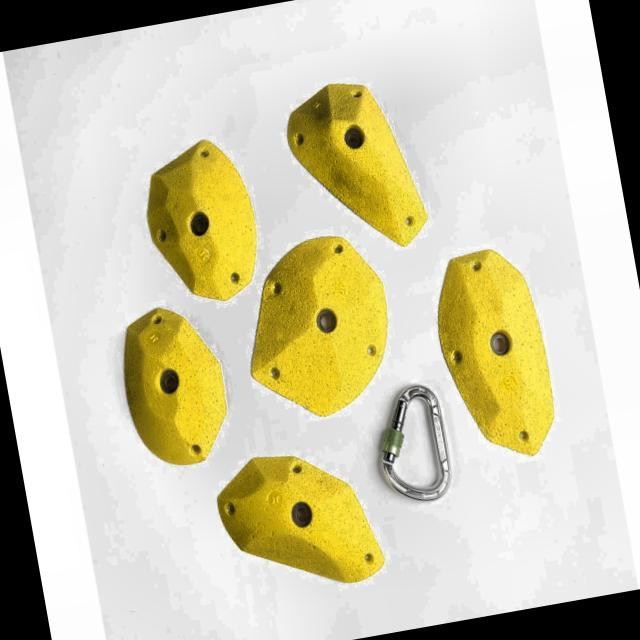Hold: (424, 230, 572, 483), (226, 230, 402, 431), (272, 70, 450, 262), (210, 440, 388, 606), (116, 139, 276, 310), (106, 298, 238, 480)
